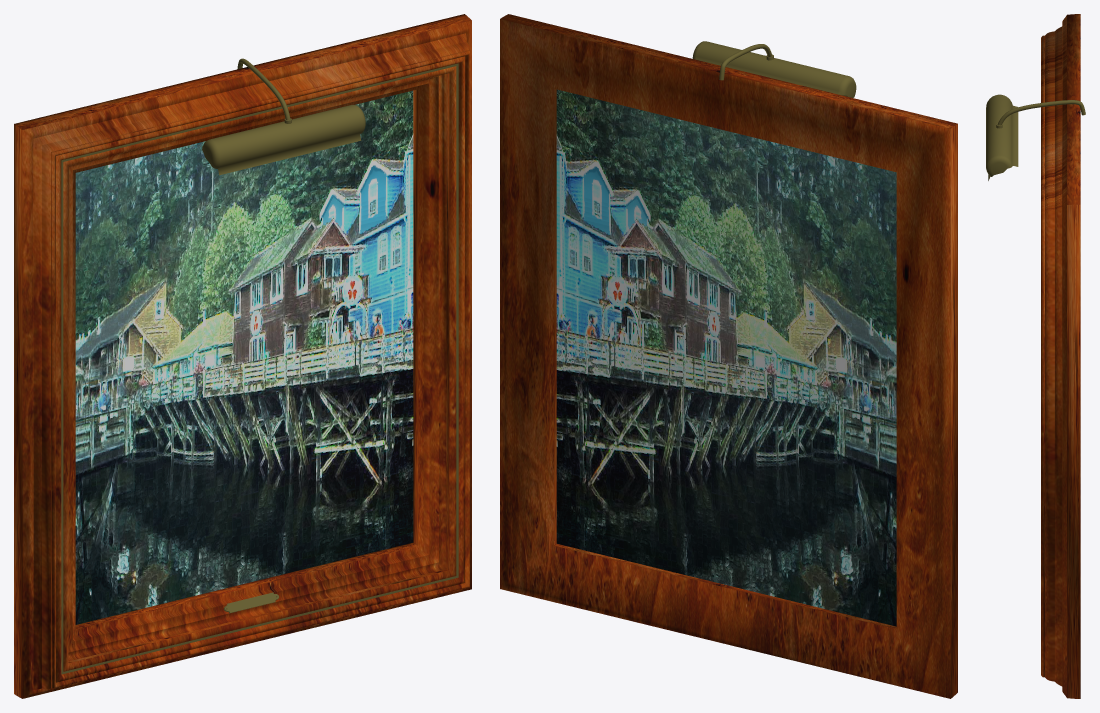
Rendered from PIC-FRAME-FBX.fbx.
3 renders of one model, left to right at view 1: azimuth 30°, elevation 25°; view 2: azimuth 150°, elevation 25°; view 3: azimuth 270°, elevation 25°, orthographic. The views are drawn at different scales.
Visible parts, largest first — view 1: painting, frame, Cylinder.3, gold trim; view 2: painting, frame, Cylinder.3; view 3: frame, Cylinder.3, Sweep NURBS.
Boxes of the visible parts, x1,y1,x2,y2 form: painting: [75, 90, 413, 624]; frame: [14, 14, 471, 698]; Cylinder.3: [202, 104, 365, 175]; gold trim: [61, 63, 458, 674]; painting: [556, 89, 896, 626]; frame: [500, 14, 957, 698]; Cylinder.3: [692, 41, 856, 97]; frame: [1041, 14, 1080, 698]; Cylinder.3: [986, 94, 1018, 180]; Sweep NURBS: [997, 100, 1085, 125].
Bounding box in the file's own units: 423 × 522 × 93.58.
Materials: 5 (2 with a texture image).
